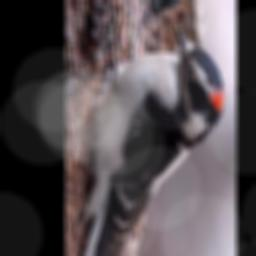Woodpecker: (74, 17, 227, 256)
